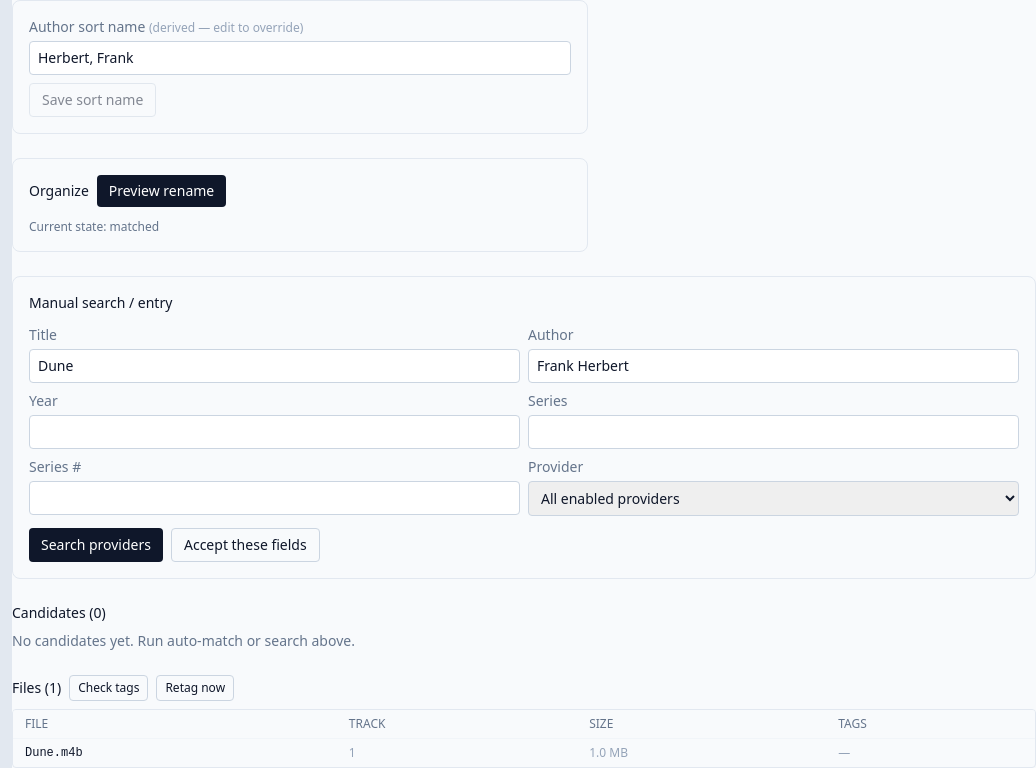
BookDetail files table › retags via organize/apply, waits for the job, and re-checks tags
(page scrolled)
Click the button "Retag now": (195, 688) [156,675,234,701]
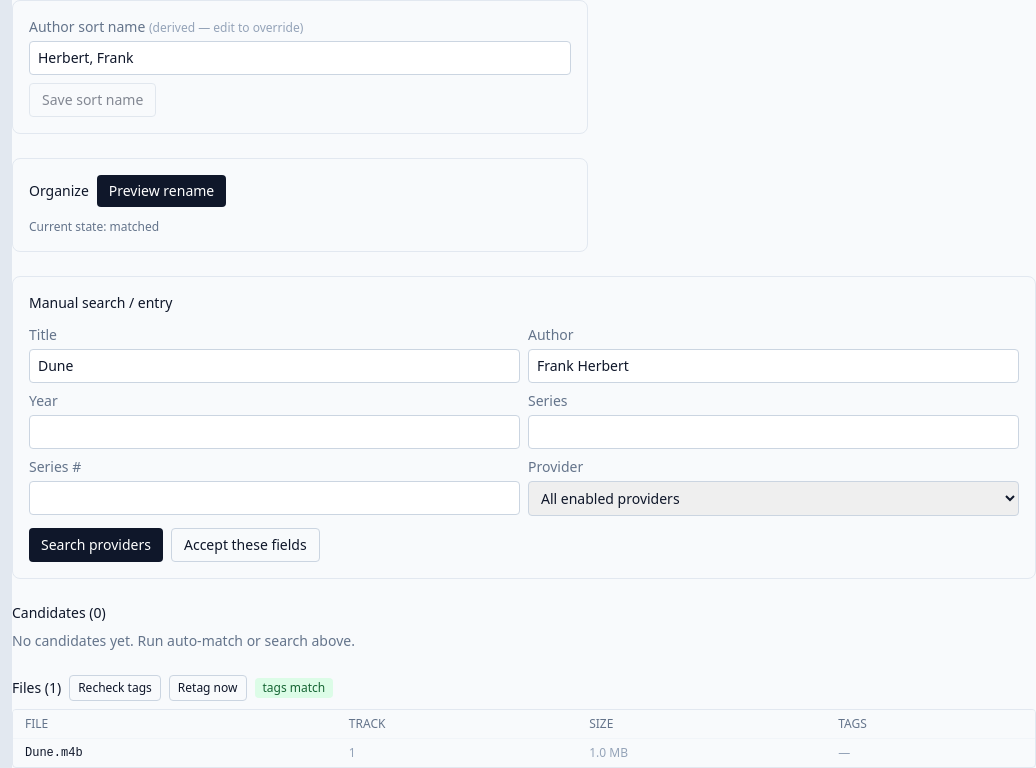
Now the text "tags match" is shown, box [254,678,333,698]
